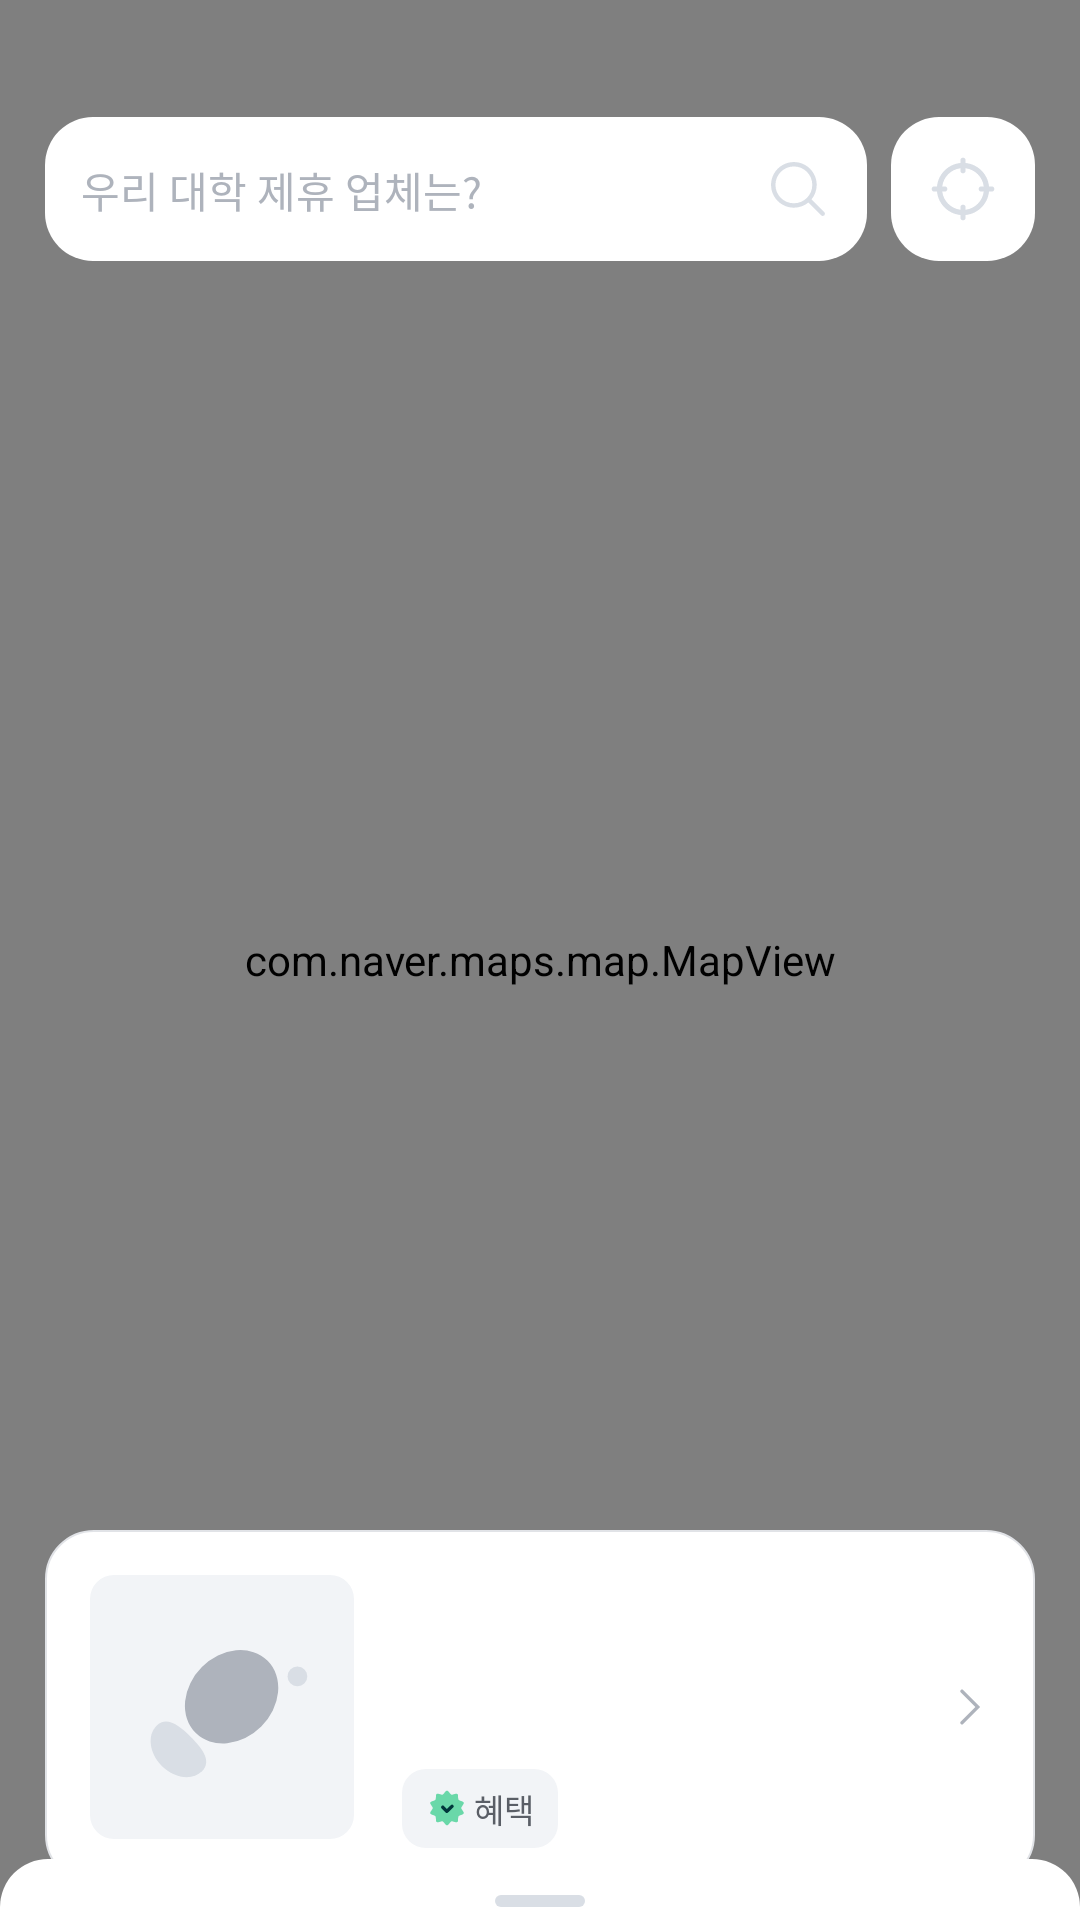

Screen size 1080px×1920px. Icon name, then its box in pixels as (x1, y1, x2, y2):
location: (932, 158, 994, 220)
next: (960, 1689, 980, 1725)
search: (771, 162, 825, 216)
